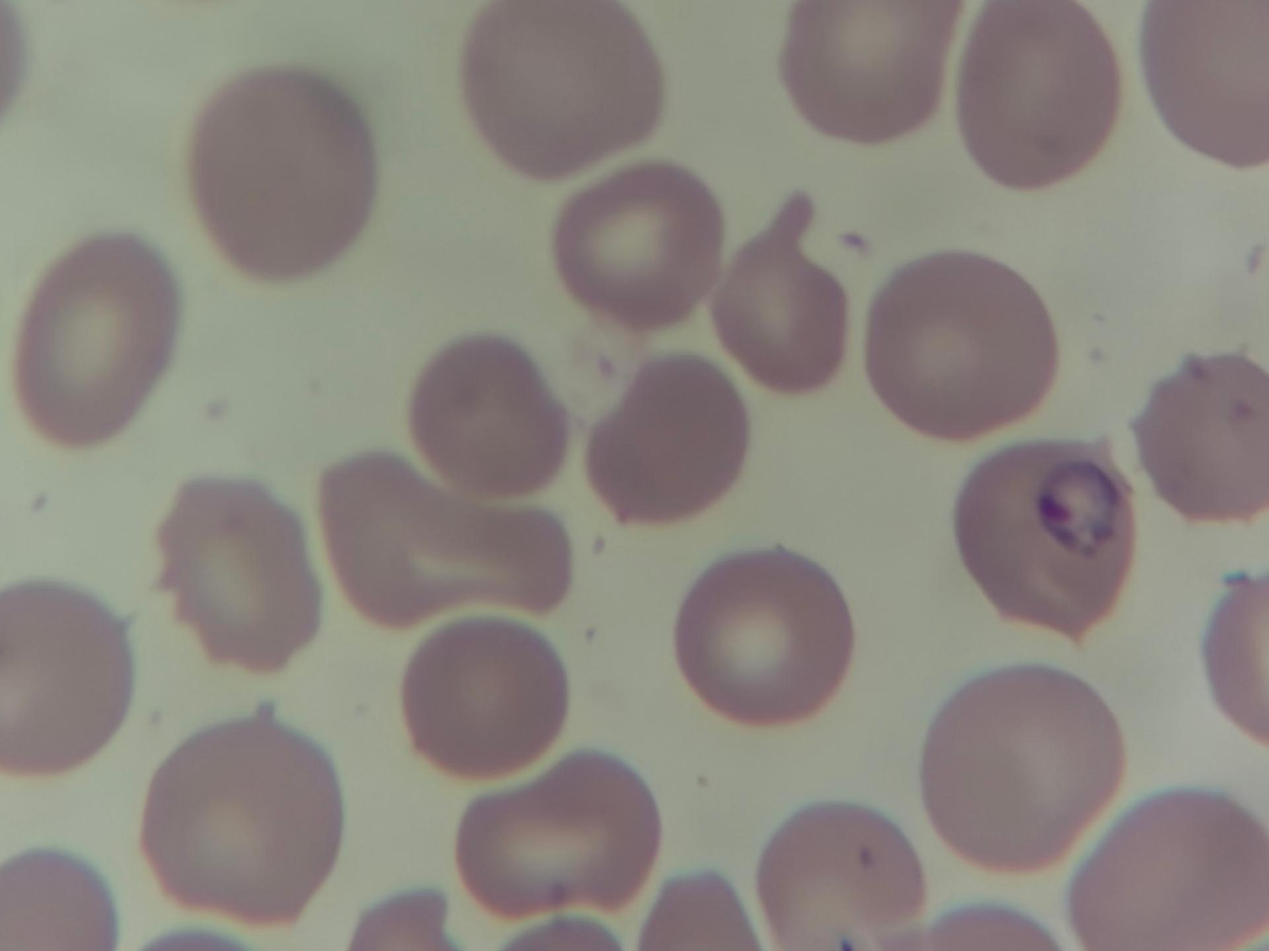Infected: (133, 310, 315, 510)
Uninfected: (698, 323, 948, 494), (145, 78, 350, 285), (925, 26, 1128, 233), (890, 673, 1082, 881), (210, 509, 406, 698), (604, 773, 806, 948), (1089, 503, 1252, 712), (607, 32, 810, 197), (146, 761, 315, 950), (414, 223, 595, 399), (2, 0, 197, 163), (946, 279, 1112, 465), (516, 424, 683, 595), (543, 621, 716, 786), (697, 450, 867, 612), (698, 172, 868, 331), (301, 807, 486, 950), (421, 556, 557, 748), (1136, 174, 1268, 362), (345, 8, 512, 152), (0, 426, 135, 593)
